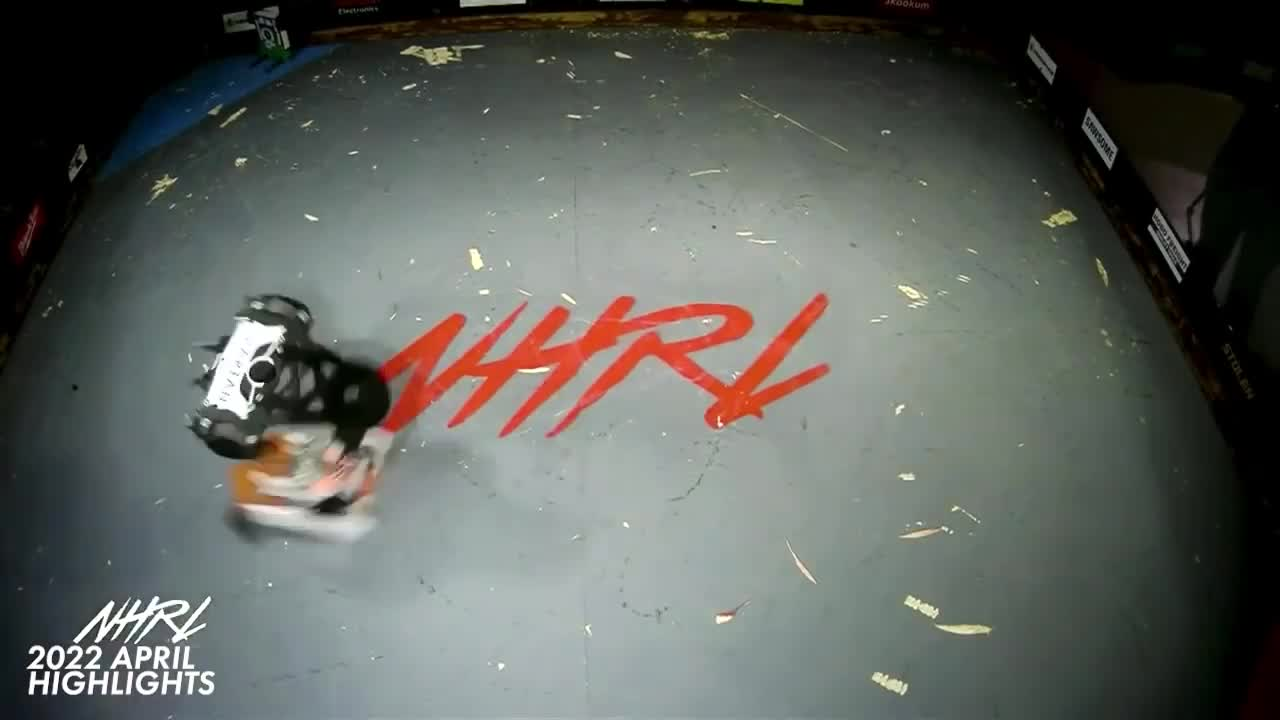combatbot: (189, 295, 369, 458), (224, 426, 388, 545)
debris: (1089, 254, 1115, 288), (1041, 207, 1078, 230)
